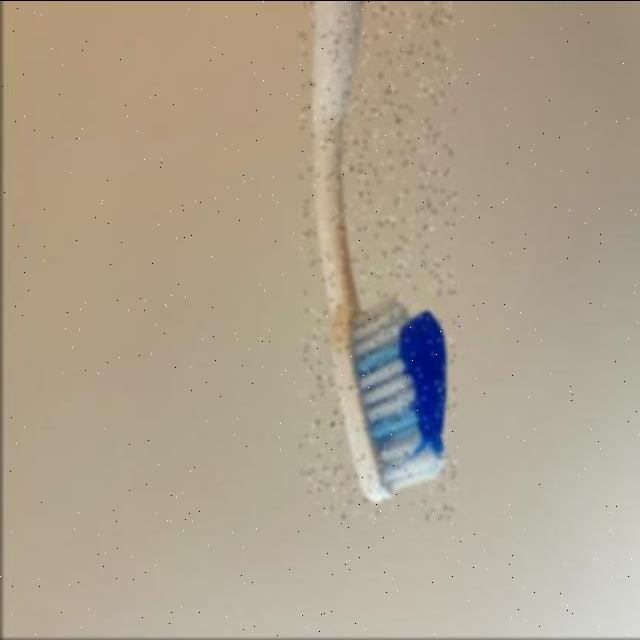toothbrush: (299, 1, 455, 522)
